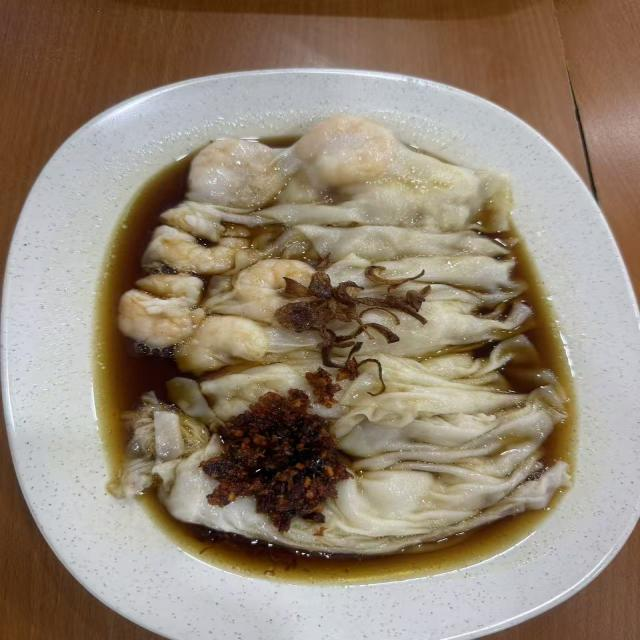Chee Cheong Fun: (95, 100, 598, 580)
